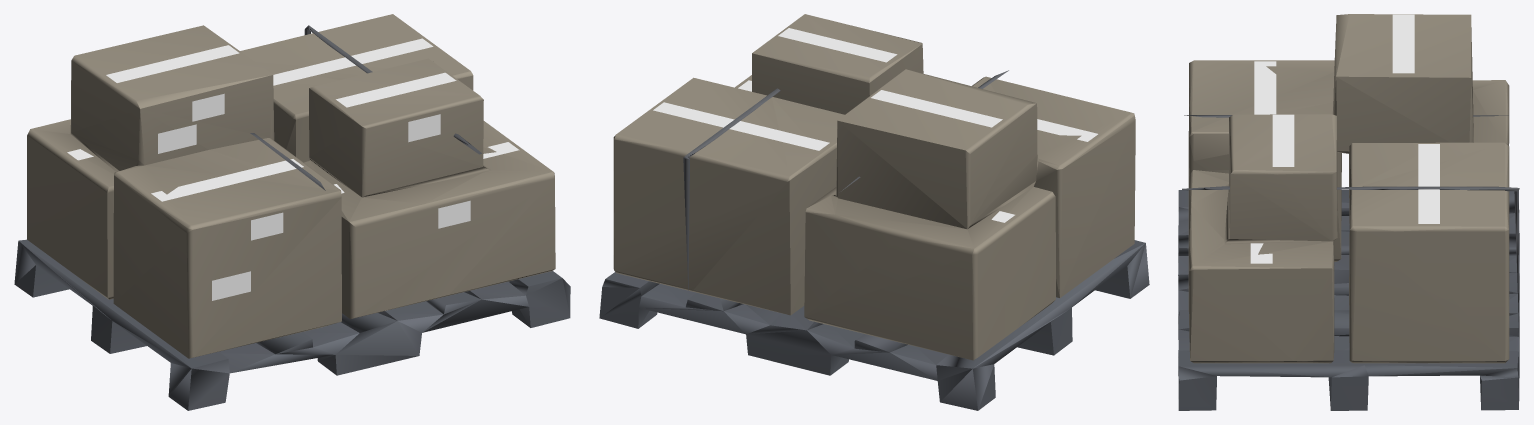
Rendered from palette_a.glb.
The picture shows the model from 3 angles, left to right: view 1: azimuth 30°, elevation 25°; view 2: azimuth 150°, elevation 25°; view 3: azimuth 270°, elevation 25°; orthographic projection. The views are drawn at different scales.
Parts seen in each view (by area): view 1: palette_a, palette_a_decal; view 2: palette_a, palette_a_decal; view 3: palette_a, palette_a_decal.
Part boxes in pixels (x1,y1,x2,y2): palette_a: [14, 14, 570, 410]; palette_a_decal: [67, 38, 519, 300]; palette_a: [599, 14, 1149, 410]; palette_a_decal: [653, 28, 1097, 222]; palette_a: [1178, 14, 1519, 410]; palette_a_decal: [1250, 14, 1439, 263].
Size of the model in its own units: 1.18 by 0.7082 by 0.9379.
